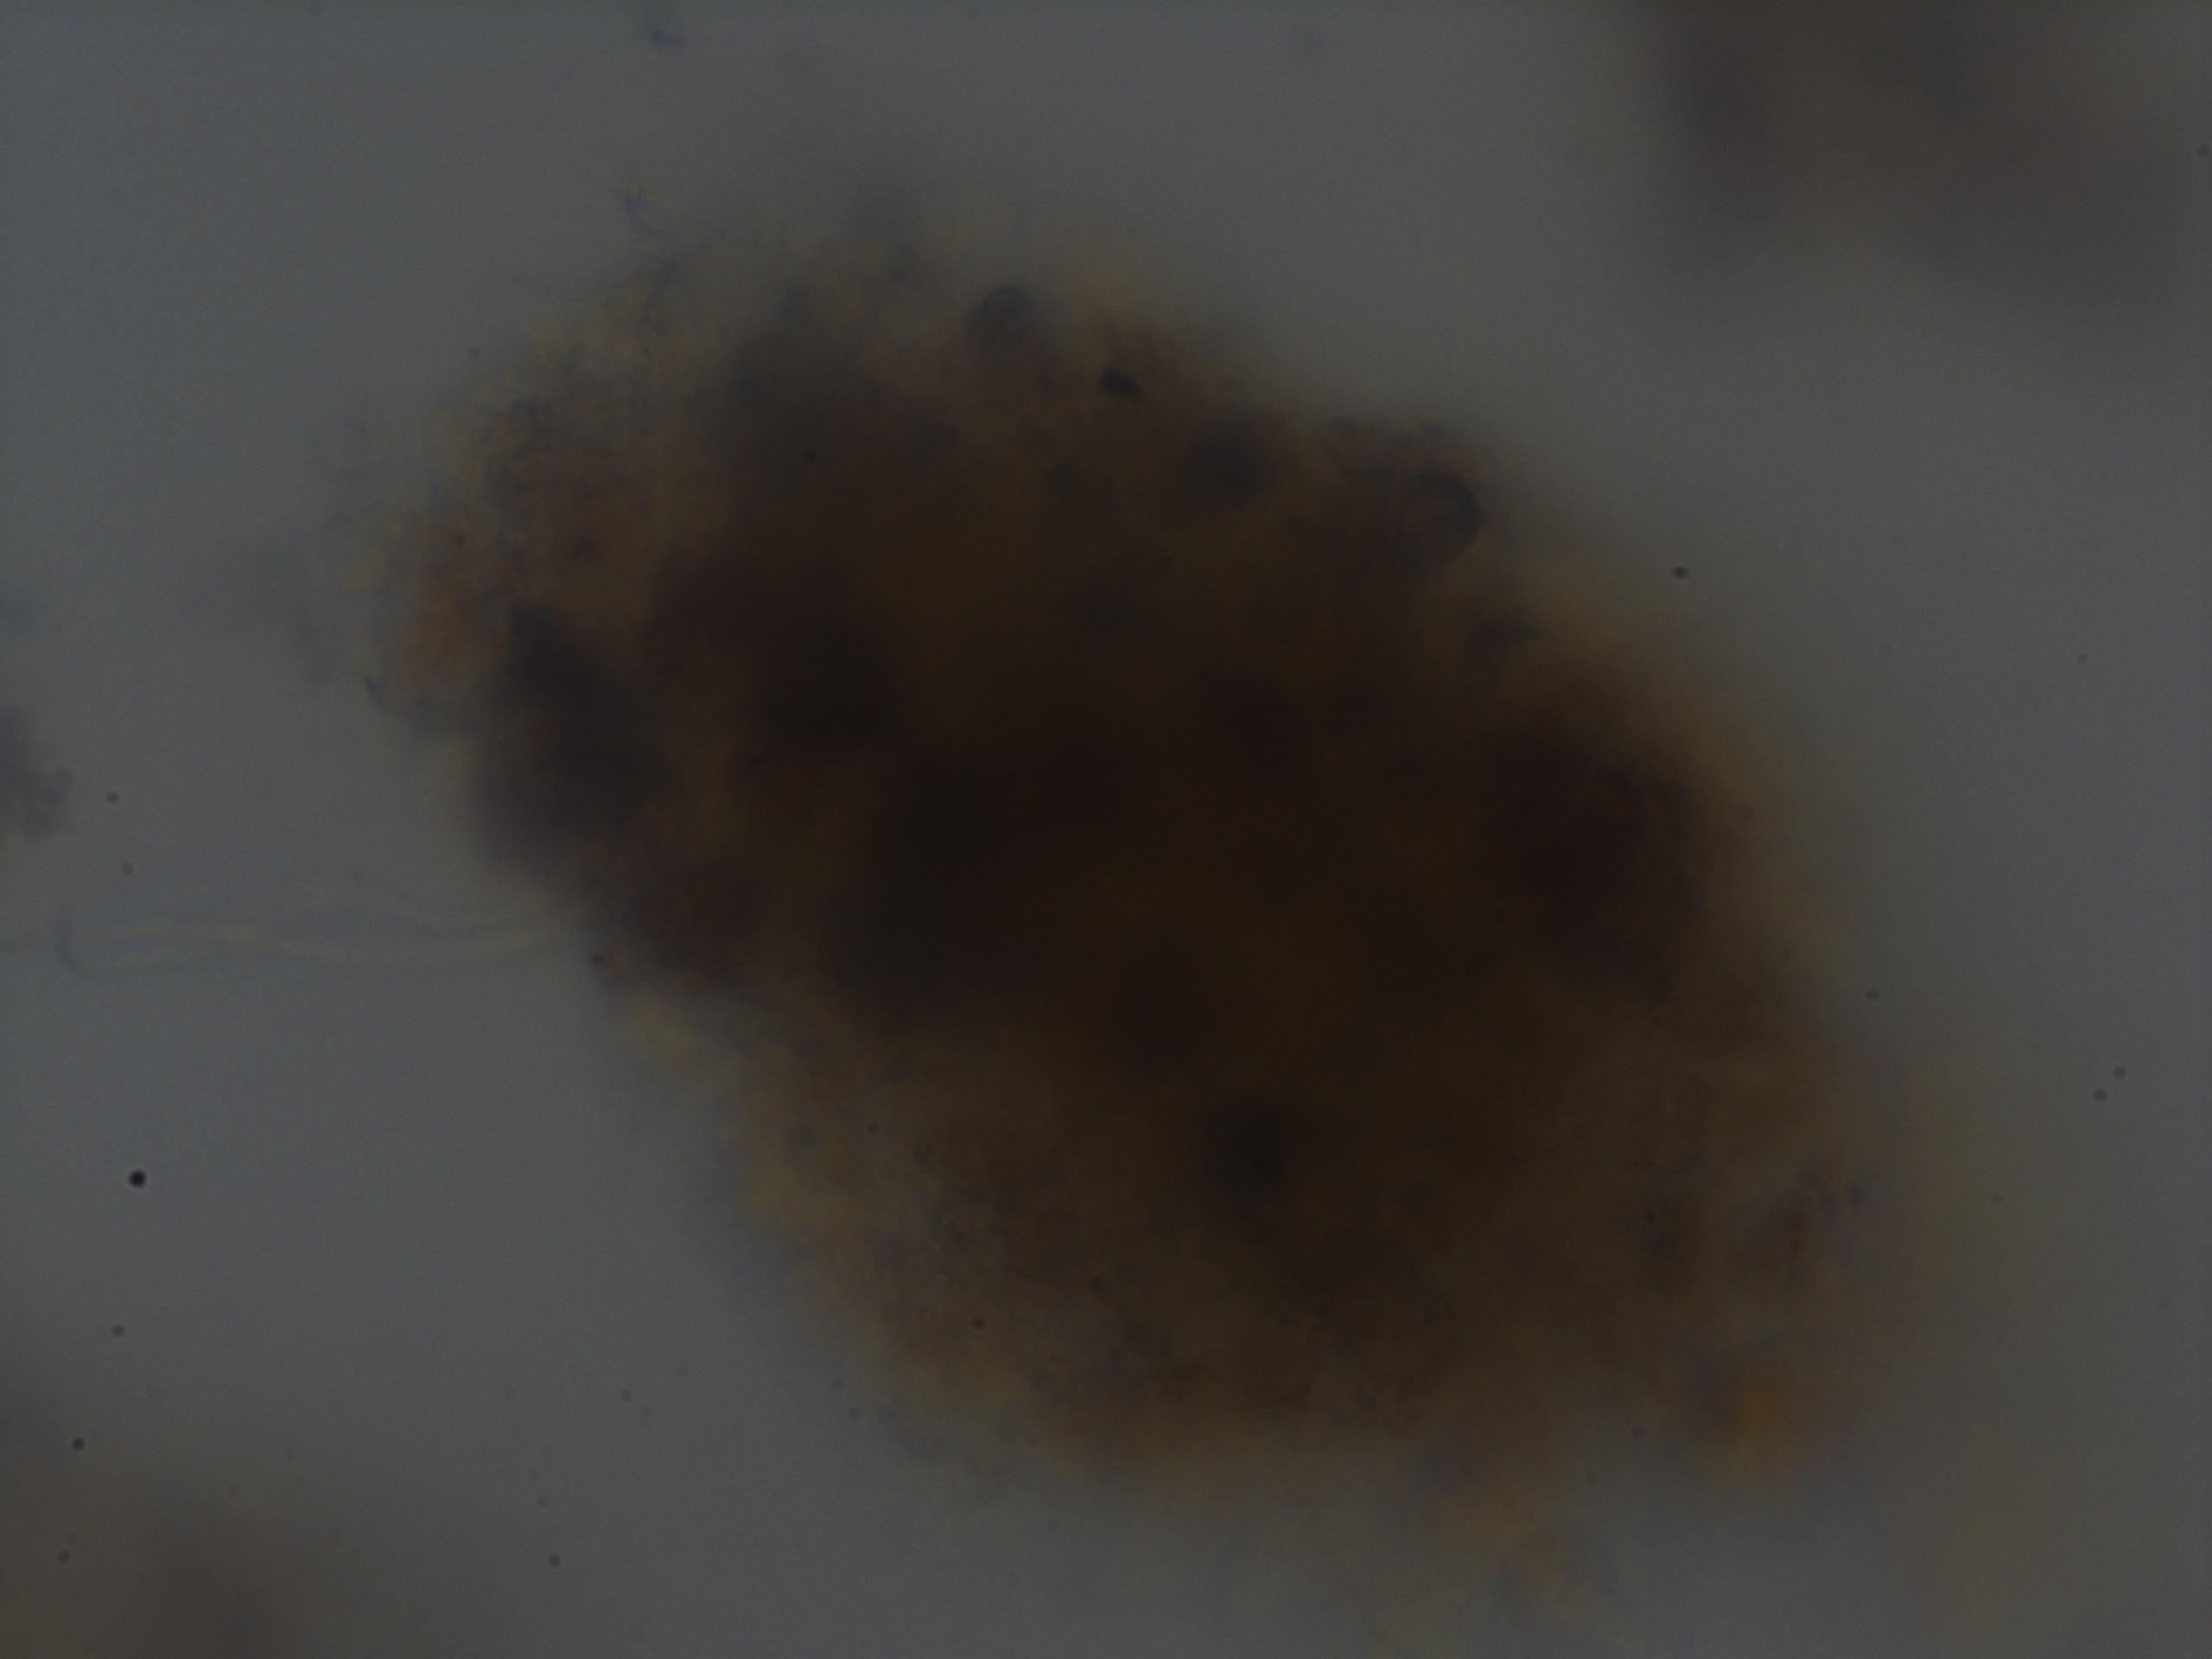spherical_floc: (406, 230, 1895, 1483)
